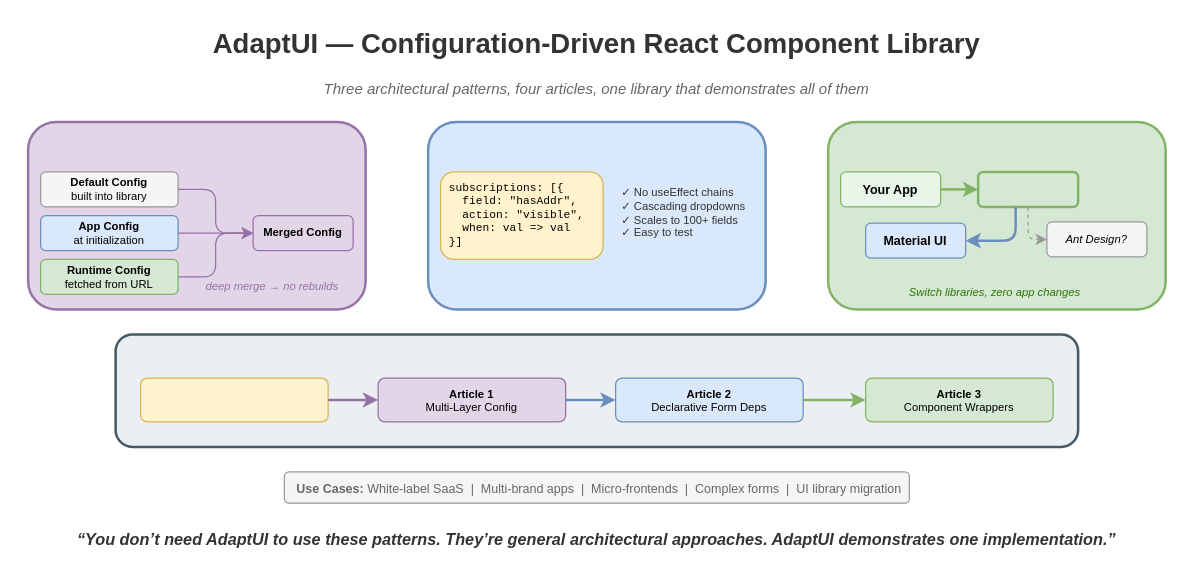
This 1193x580 diagram has some shape labels left out. The shapes that lost their labels are listed below. From the top down, each one's box as (x1, y1, x2, y2) in pixels, then its label:
(976, 170, 1079, 208): AdaptUI
(26, 120, 366, 310): Pattern 1: Multi-Layer Config
(426, 120, 766, 310): Pattern 2: Declarative Form Dependencies
(826, 120, 1166, 310): Pattern 3: Component Wrappers
(139, 377, 328, 422): Article 0 Self-Mounting Embeds
(114, 332, 1079, 448): Article Series
